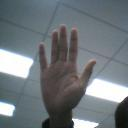hand: (38, 24, 97, 114)
